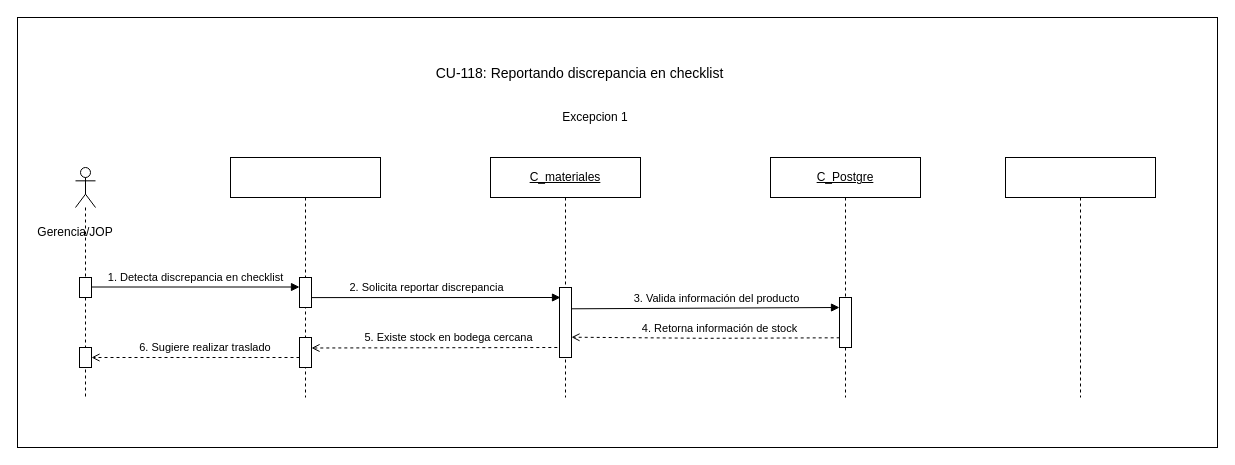
Some shapes in this 1235 by 465 pixel diagram are drawn without their labels. The shapes that lost their labels are listed below. From the top down, each one's box as (x1, y1, x2, y2) in pixels, then its label:
(230, 156, 380, 398): V_Pedidos
(1004, 156, 1156, 398): alerta
